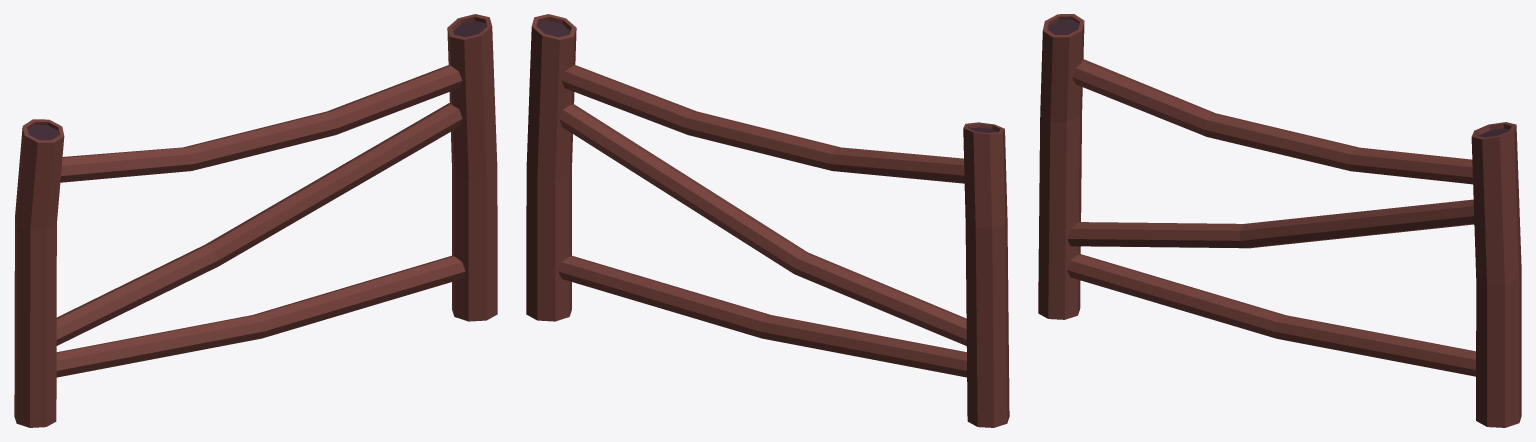
File: Fence_Wooden_02.fbx
3 renders of one model, left to right at view 1: azimuth 30°, elevation 25°; view 2: azimuth 150°, elevation 25°; view 3: azimuth 330°, elevation 25°, orthographic.
Parts seen in each view (by area): view 1: Fence_Wooden_02; view 2: Fence_Wooden_02; view 3: Fence_Wooden_02.
Boxes of the visible parts, left/top/right/bottom form: Fence_Wooden_02: left=14, top=14, right=497, bottom=427; Fence_Wooden_02: left=526, top=14, right=1009, bottom=427; Fence_Wooden_02: left=1038, top=14, right=1521, bottom=427.
Size of the model in its own units: 216 by 126 by 19.16.
